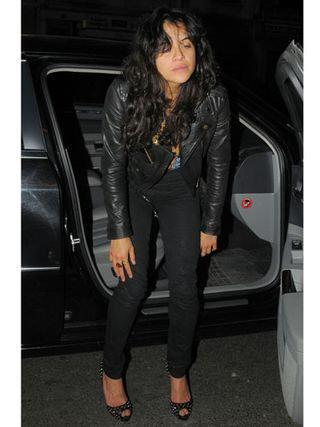Drunk: (153, 23, 196, 79)
